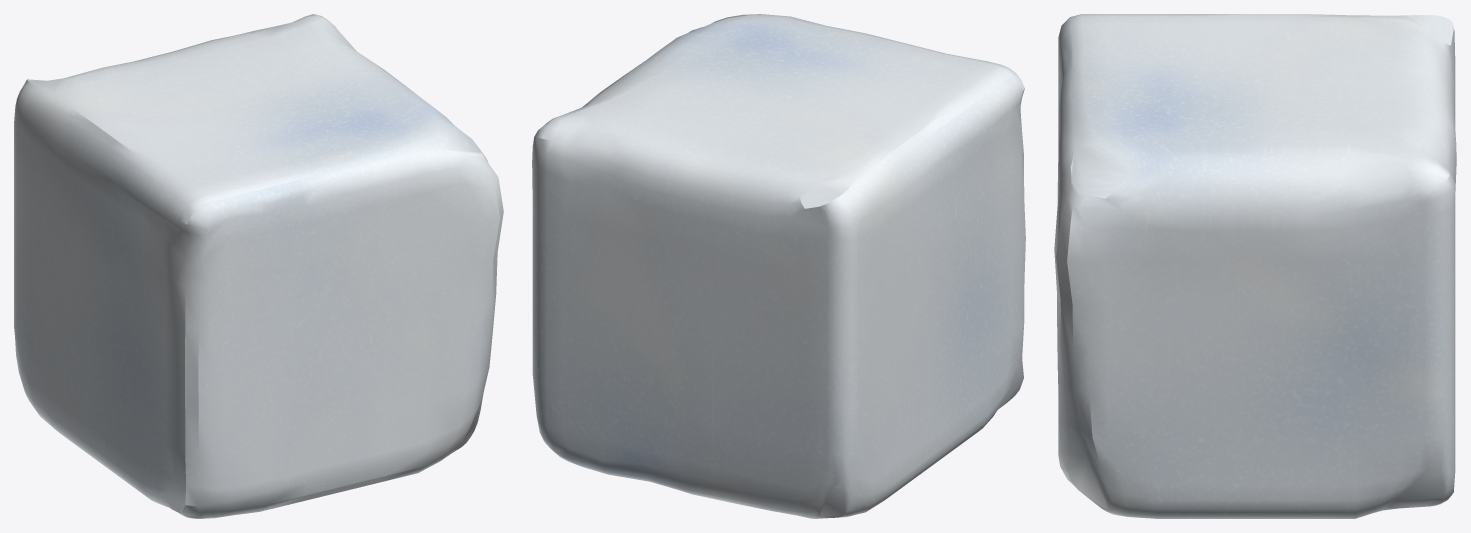
File: iceblock_Naomi.glb
The picture shows the model from 3 angles, left to right: view 1: azimuth 30°, elevation 25°; view 2: azimuth 150°, elevation 25°; view 3: azimuth 270°, elevation 25°; orthographic projection. The views are drawn at different scales.
Parts seen in each view (by area): view 1: Cube; view 2: Cube; view 3: Cube.
Part boxes in pixels (<box>): Cube: <box>14,14,503,518</box>; Cube: <box>532,14,1025,518</box>; Cube: <box>1054,14,1456,518</box>.
Bounding box in the file's own units: 2.03 × 2.01 × 2.03.
Materials: 1 (1 with a texture image).
